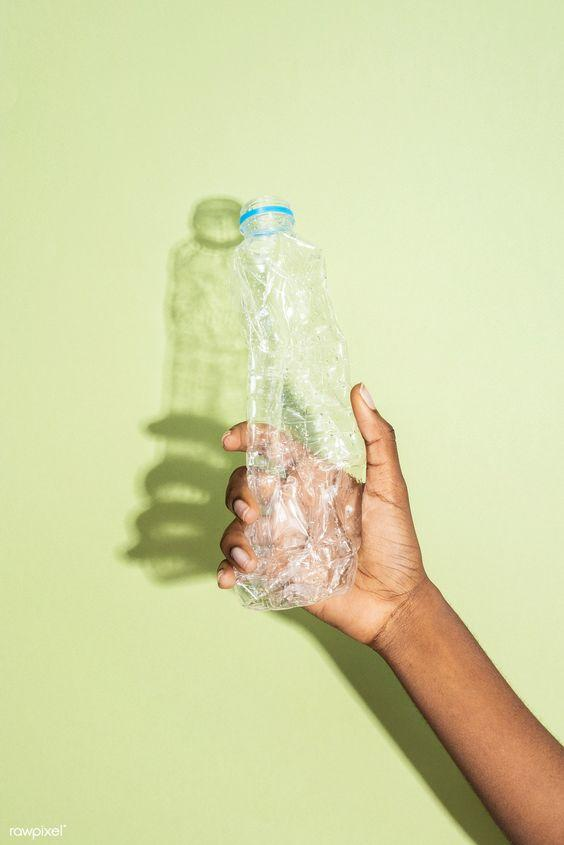PETE: (231, 192, 367, 617)
